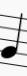note: (0, 11, 23, 68)
